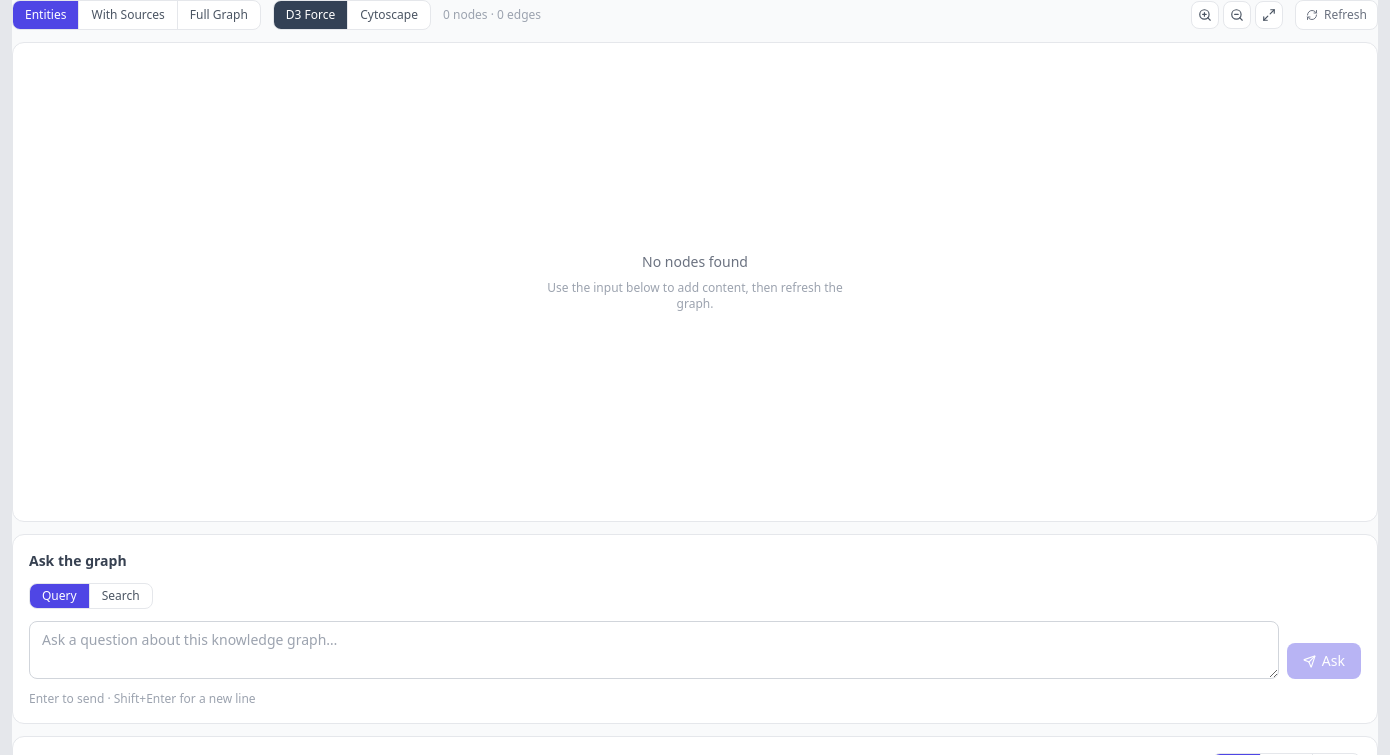
Test: KGGraph search playground › switches to Search, sends question + top_k, and renders ranked results
Click the button "Search". click: point(121, 596)
box: top-left (90, 584), bottom-right (152, 608)
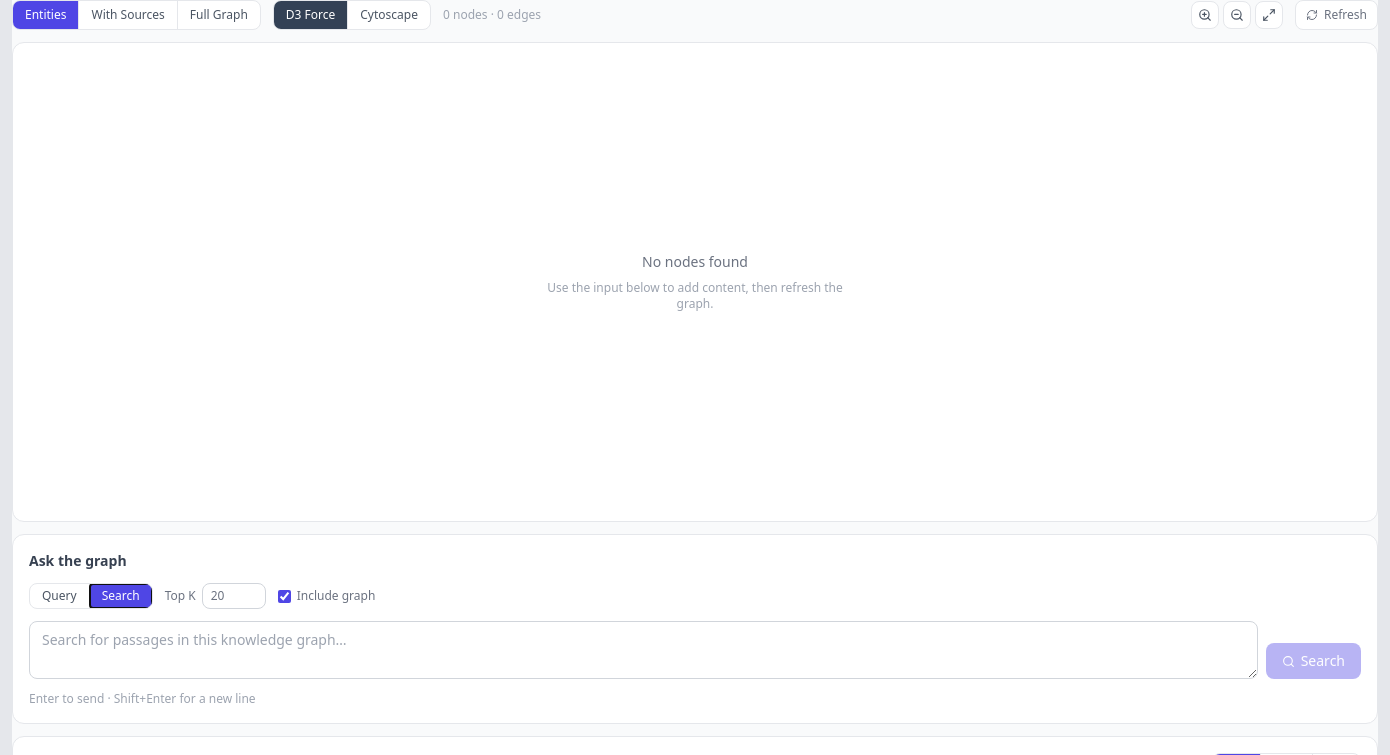
Expected: the number field labelled "Top K" holds "20"
Replace the text in the number field labelled "Top K" with "5". click: point(234, 596)
box: top-left (202, 583), bottom-right (266, 609)
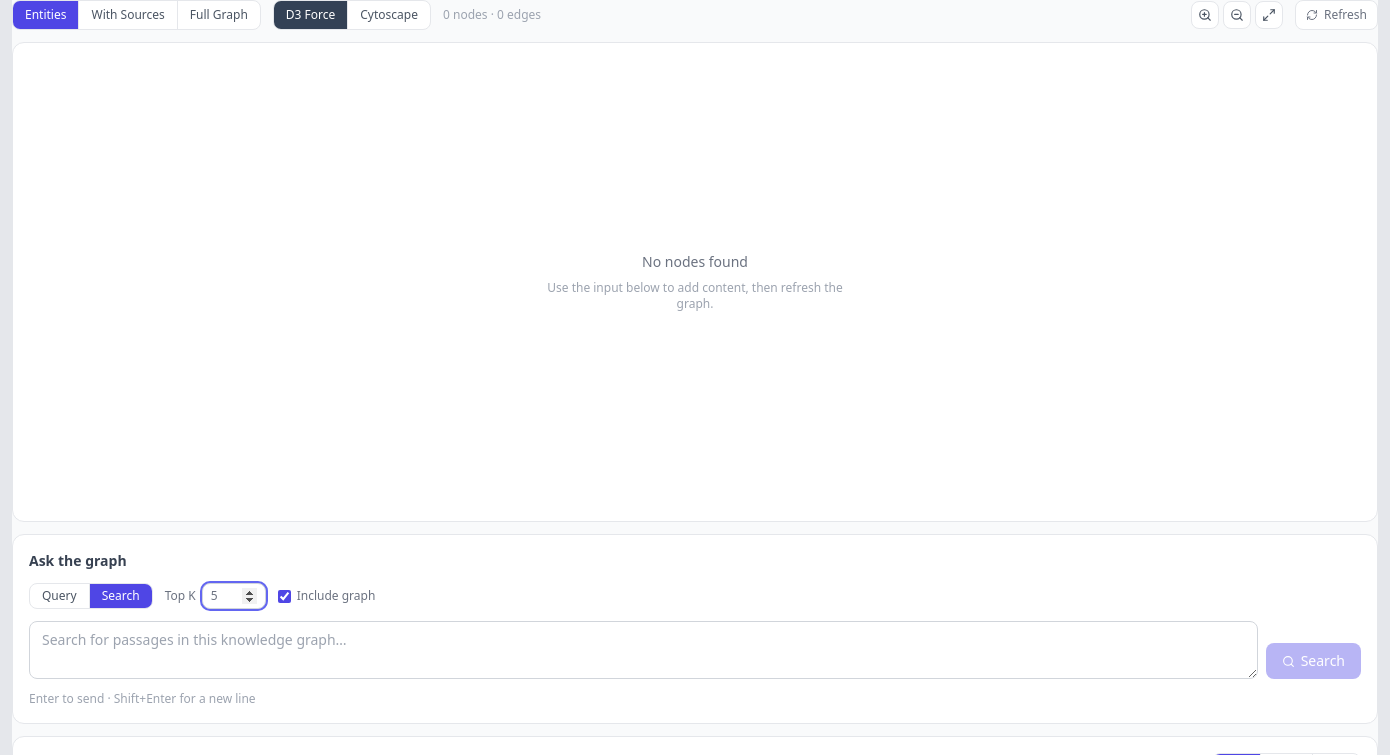
Type "what is alpha?" into the text box with placeholder "Search for passages in this knowledge graph…". click: point(643, 650)
box: top-left (29, 621), bottom-right (1258, 679)
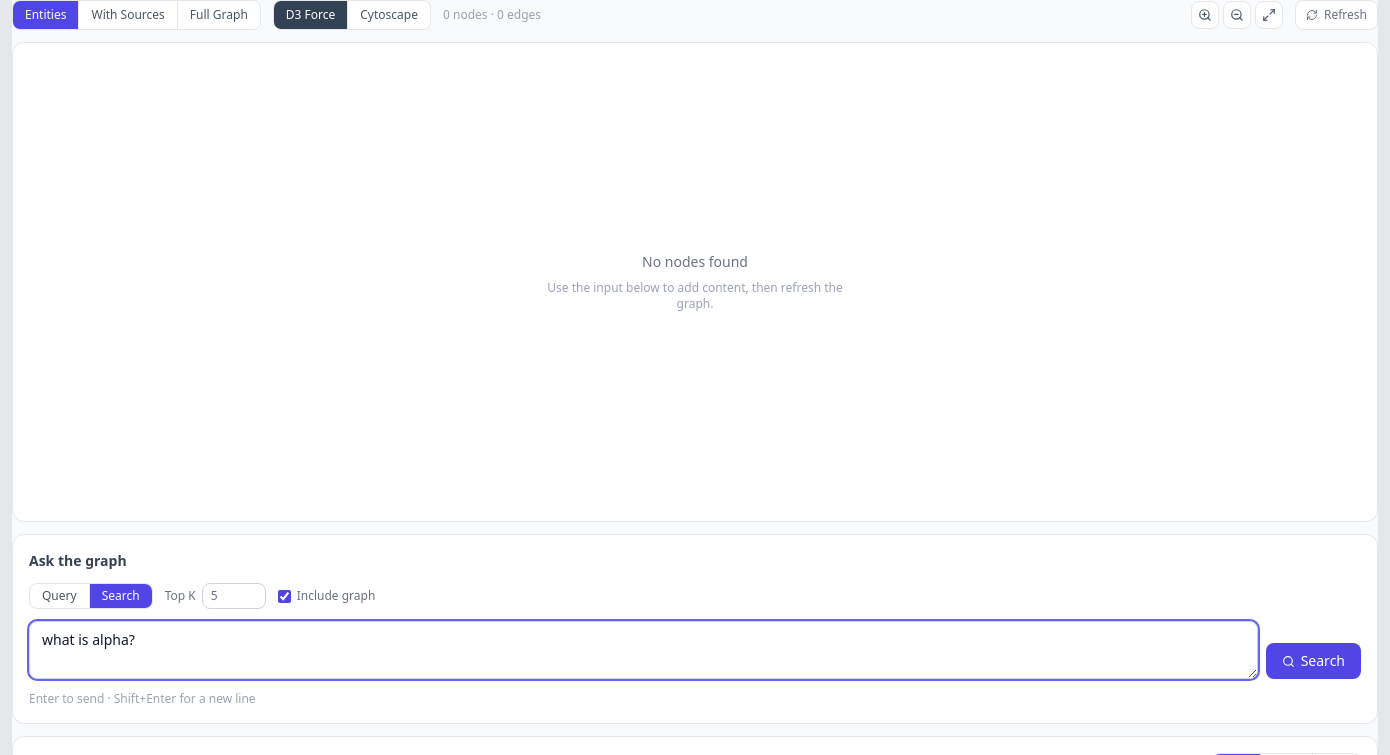
// The submit button is also labelled "Search" — pick the last one (after the toggle)
Click the 2nd button "Search". click: point(1313, 661)
box: top-left (1266, 643), bottom-right (1361, 679)
(page scrolled)
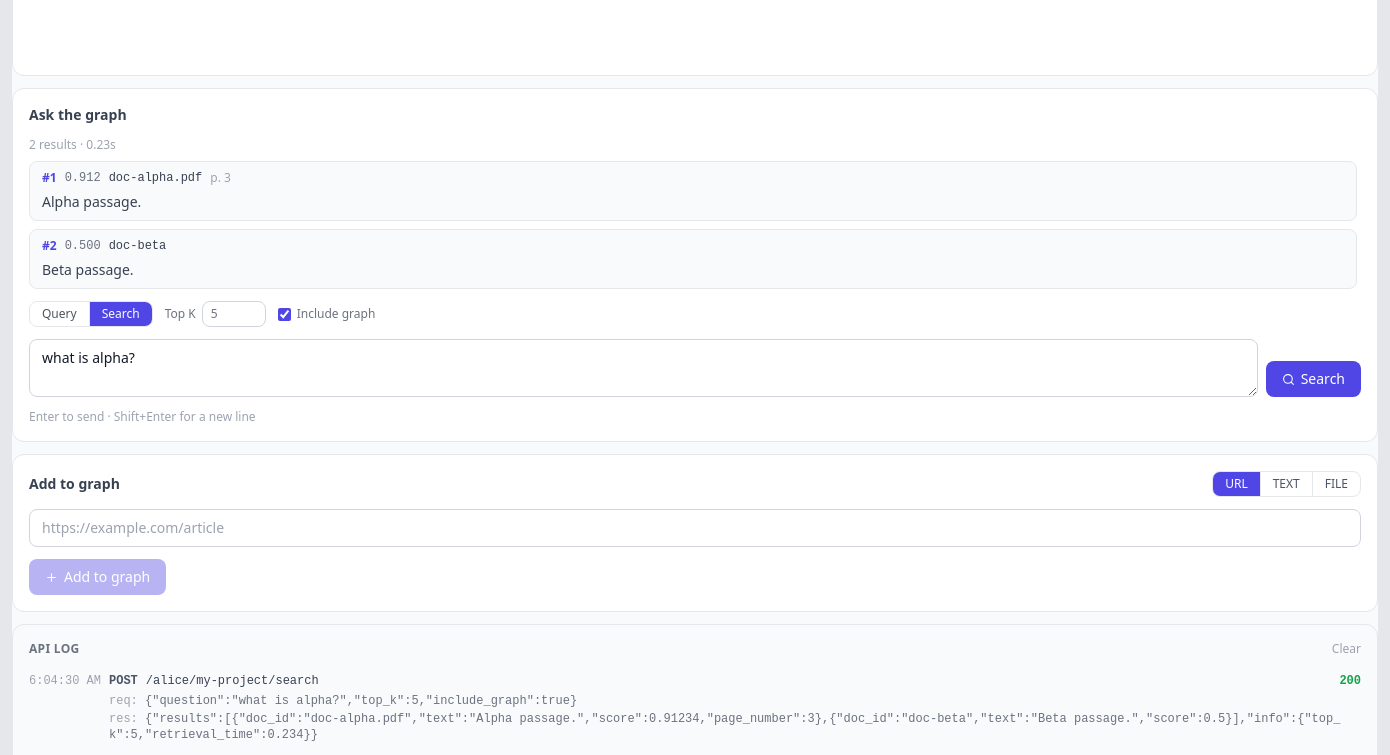
Expected: the text "2 results · 0.23s" is shown, top-left (29, 136), bottom-right (116, 153)
Expected: the number of list items is 2, top-left (29, 161), bottom-right (1357, 221); top-left (29, 229), bottom-right (1357, 289)
Expected: the text "#1" is shown, top-left (42, 170), bottom-right (57, 186)
